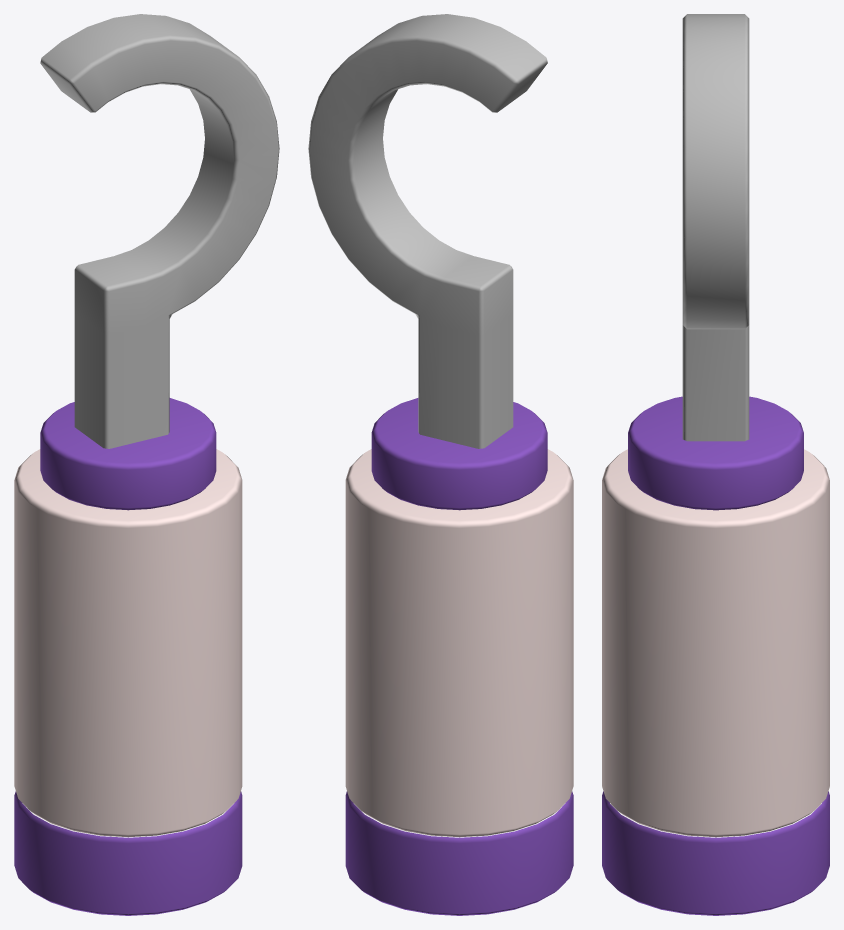
Rendered from Public_20_Dental_Probe_2.glb.
The picture shows the model from 3 angles, left to right: view 1: azimuth 30°, elevation 25°; view 2: azimuth 150°, elevation 25°; view 3: azimuth 270°, elevation 25°; orthographic projection.
Parts seen in each view (by area): view 1: Public_20_Dental_Probe_2; view 2: Public_20_Dental_Probe_2; view 3: Public_20_Dental_Probe_2.
Part boxes in pixels (x1,y1,x2,y2): Public_20_Dental_Probe_2: (14,14,279,915); Public_20_Dental_Probe_2: (308,14,573,915); Public_20_Dental_Probe_2: (602,14,829,915).
Size of the model in its own units: 0.7523 by 2.57 by 0.631.
Materials: 1 (1 with a texture image).
